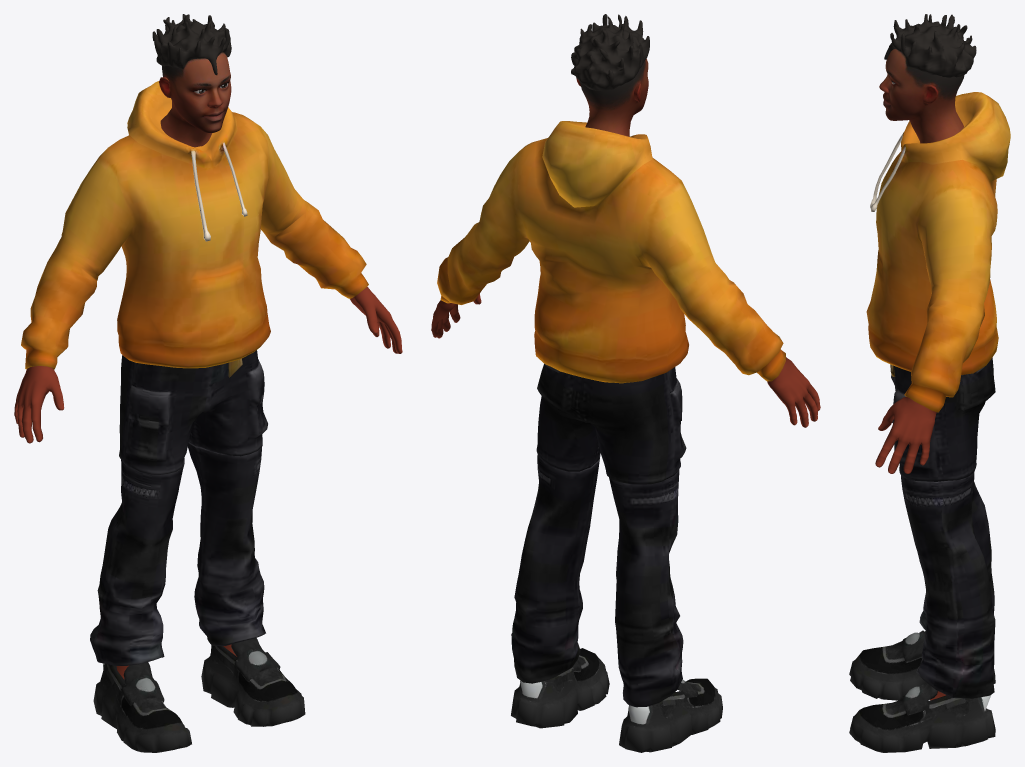
File: abass.gltf
The picture shows the model from 3 angles, left to right: view 1: azimuth 30°, elevation 25°; view 2: azimuth 150°, elevation 25°; view 3: azimuth 270°, elevation 25°; orthographic projection.
Parts seen in each view (by area): view 1: Wolf3D_Outfit_Top, Wolf3D_Outfit_Bottom, Wolf3D_Outfit_Footwear, Wolf3D_Head, Wolf3D_Body, Wolf3D_Hair; view 2: Wolf3D_Outfit_Top, Wolf3D_Outfit_Bottom, Wolf3D_Outfit_Footwear, Wolf3D_Hair, Wolf3D_Head, Wolf3D_Body; view 3: Wolf3D_Outfit_Top, Wolf3D_Outfit_Bottom, Wolf3D_Outfit_Footwear, Wolf3D_Head, Wolf3D_Hair, Wolf3D_Body.
Boxes of the visible parts, x1,y1,x2,y2 form: Wolf3D_Outfit_Top: [21, 81, 368, 369]; Wolf3D_Outfit_Bottom: [90, 350, 267, 665]; Wolf3D_Outfit_Footwear: [93, 638, 305, 752]; Wolf3D_Head: [159, 52, 231, 147]; Wolf3D_Body: [14, 286, 402, 679]; Wolf3D_Hair: [152, 14, 231, 75]; Wolf3D_Outfit_Top: [437, 121, 785, 383]; Wolf3D_Outfit_Bottom: [511, 363, 686, 707]; Wolf3D_Outfit_Footwear: [511, 648, 722, 752]; Wolf3D_Hair: [571, 14, 649, 91]; Wolf3D_Head: [576, 58, 648, 136]; Wolf3D_Body: [431, 294, 820, 427]; Wolf3D_Outfit_Top: [866, 92, 1010, 412]; Wolf3D_Outfit_Bottom: [890, 357, 995, 698]; Wolf3D_Outfit_Footwear: [849, 630, 995, 752]; Wolf3D_Head: [879, 49, 964, 143]; Wolf3D_Hair: [884, 14, 976, 77]; Wolf3D_Body: [875, 396, 946, 700].
Bounding box in the file's own units: 1.06 × 1.89 × 0.3961.
9 materials, 9 textured.
